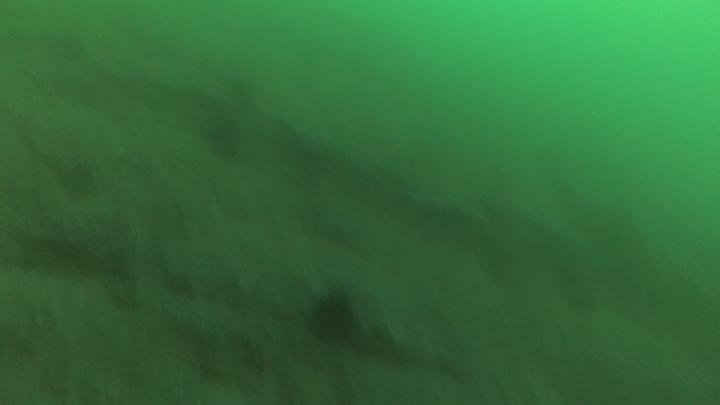echinus: (306, 288, 359, 346), (203, 117, 246, 165), (54, 159, 99, 202)
